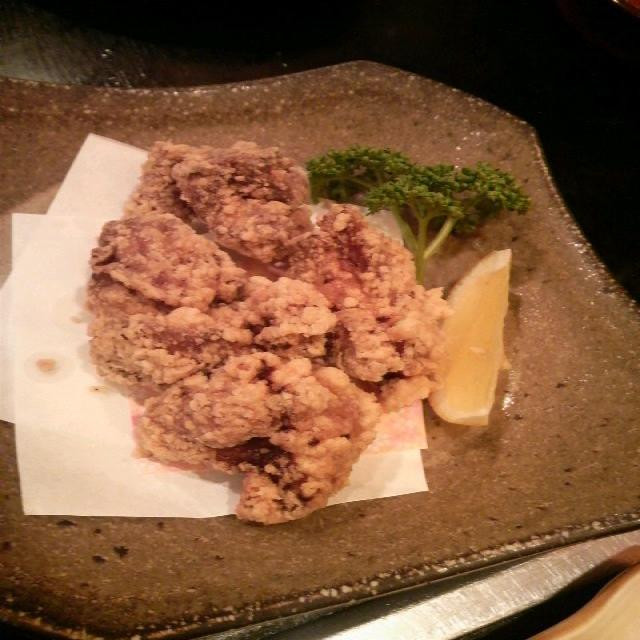鸡肉料理 含炸鸡: (71, 128, 453, 536)
